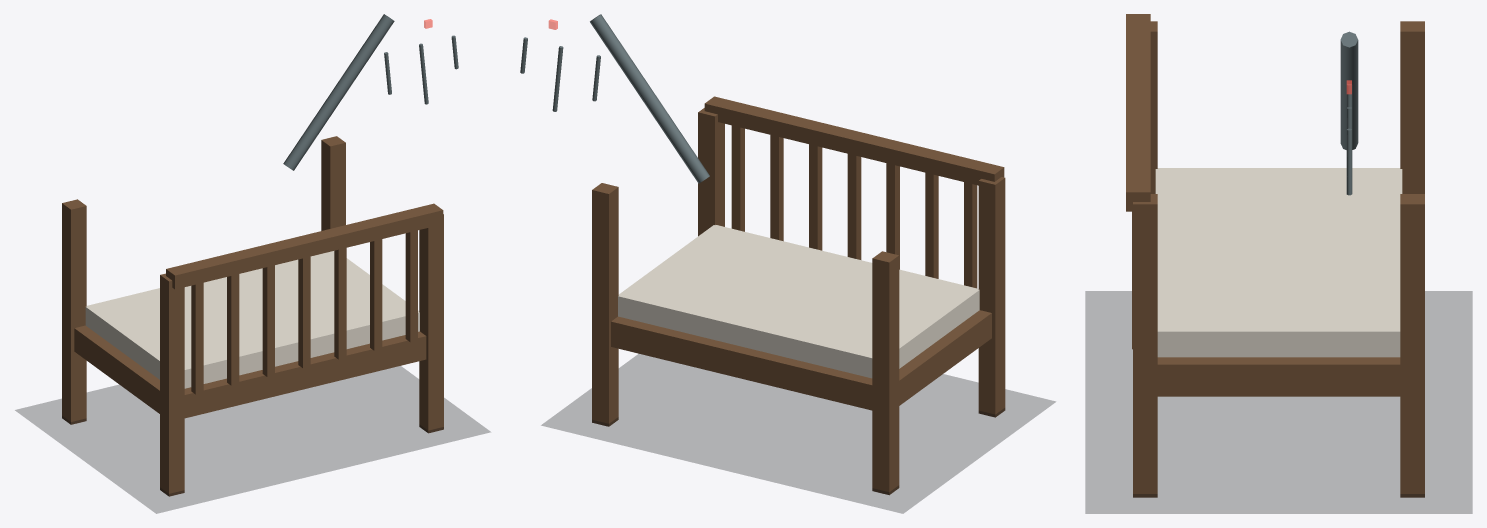
The model's file is hp_room_rm_home_crib_monitor.glb.
3 views of the same model, side by side, from view 1: azimuth 30°, elevation 25°; view 2: azimuth 150°, elevation 25°; view 3: azimuth 270°, elevation 25° (orthographic). The views are drawn at different scales.
Visible parts, largest first — view 1: contact_shadow, mattress, crib_base, rail_top_front, crib_post_-0.58_0.38, crib_post_-0.58_-0.38, crib_post_0.58_0.38, mobile_arm, crib_post_0.58_-0.38, rail_bar_front_1, rail_bar_front_0, rail_bar_front_5 (+4 smaller); view 2: contact_shadow, mattress, crib_base, rail_top_front, crib_post_-0.58_-0.38, crib_post_0.58_-0.38, crib_post_-0.58_0.38, crib_post_0.58_0.38, mobile_arm, rail_bar_front_3, rail_bar_front_6, rail_bar_front_4 (+4 smaller); view 3: contact_shadow, mattress, crib_base, crib_post_0.58_-0.38, crib_post_0.58_0.38, rail_top_front, crib_post_-0.58_-0.38, mobile_arm, crib_post_-0.58_0.38.
Part boxes in pixels (x1,y1,x2,y2): contact_shadow: [15, 366, 490, 513]; mattress: [85, 251, 419, 388]; crib_base: [74, 325, 426, 418]; rail_top_front: [166, 203, 443, 289]; crib_post_-0.58_0.38: [160, 273, 184, 496]; crib_post_-0.58_-0.38: [62, 199, 86, 424]; crib_post_0.58_0.38: [419, 214, 443, 433]; mobile_arm: [283, 14, 394, 170]; crib_post_0.58_-0.38: [321, 136, 345, 230]; rail_bar_front_1: [227, 274, 239, 385]; rail_bar_front_0: [191, 282, 203, 394]; rail_bar_front_5: [370, 239, 382, 350]; contact_shadow: [541, 354, 1055, 513]; mattress: [618, 225, 979, 378]; crib_base: [611, 310, 991, 410]; rail_top_front: [704, 96, 1004, 185]; crib_post_-0.58_-0.38: [872, 251, 899, 495]; crib_post_0.58_-0.38: [592, 183, 618, 426]; crib_post_-0.58_0.38: [978, 177, 1005, 417]; crib_post_0.58_0.38: [698, 108, 724, 236]; mobile_arm: [590, 14, 709, 183]; rail_bar_front_3: [847, 154, 861, 259]; rail_bar_front_6: [731, 125, 744, 231]; rail_bar_front_4: [809, 144, 822, 250]; contact_shadow: [1085, 291, 1472, 513]; mattress: [1155, 168, 1402, 357]; crib_base: [1157, 357, 1400, 396]; crib_post_0.58_-0.38: [1400, 194, 1424, 497]; crib_post_0.58_0.38: [1133, 194, 1157, 497]; rail_top_front: [1126, 14, 1150, 211]; crib_post_-0.58_-0.38: [1400, 21, 1424, 193]; mobile_arm: [1340, 31, 1358, 149]; crib_post_-0.58_0.38: [1150, 21, 1157, 193].
Bounding box in the file's own units: 1.78 × 1.5 × 1.1.
